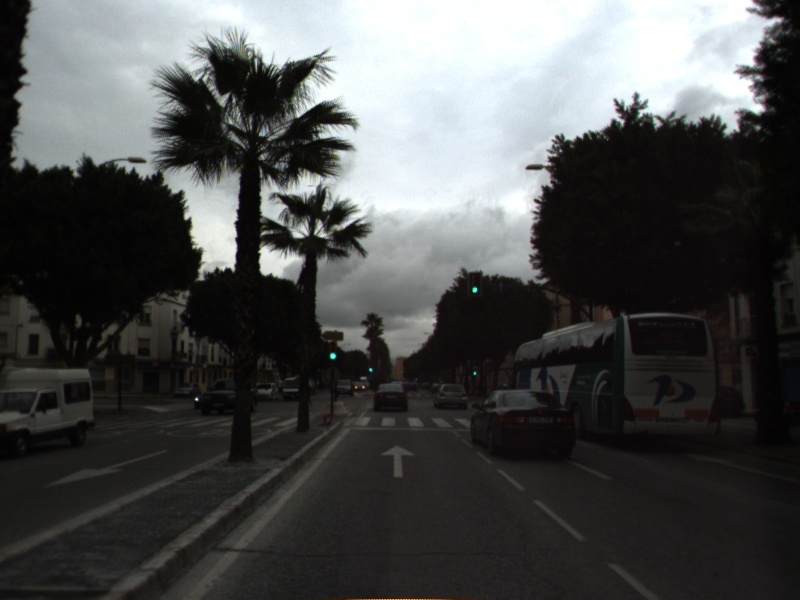STRAIGHT: (680, 451, 800, 485), (378, 443, 418, 479)
